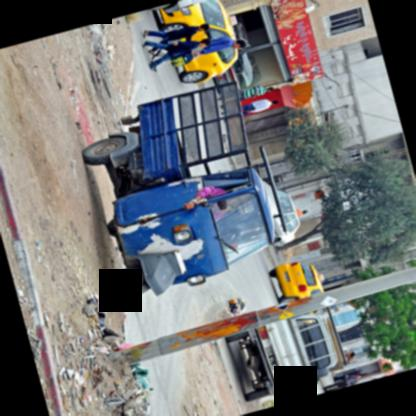backpack: (169, 52, 193, 67)
